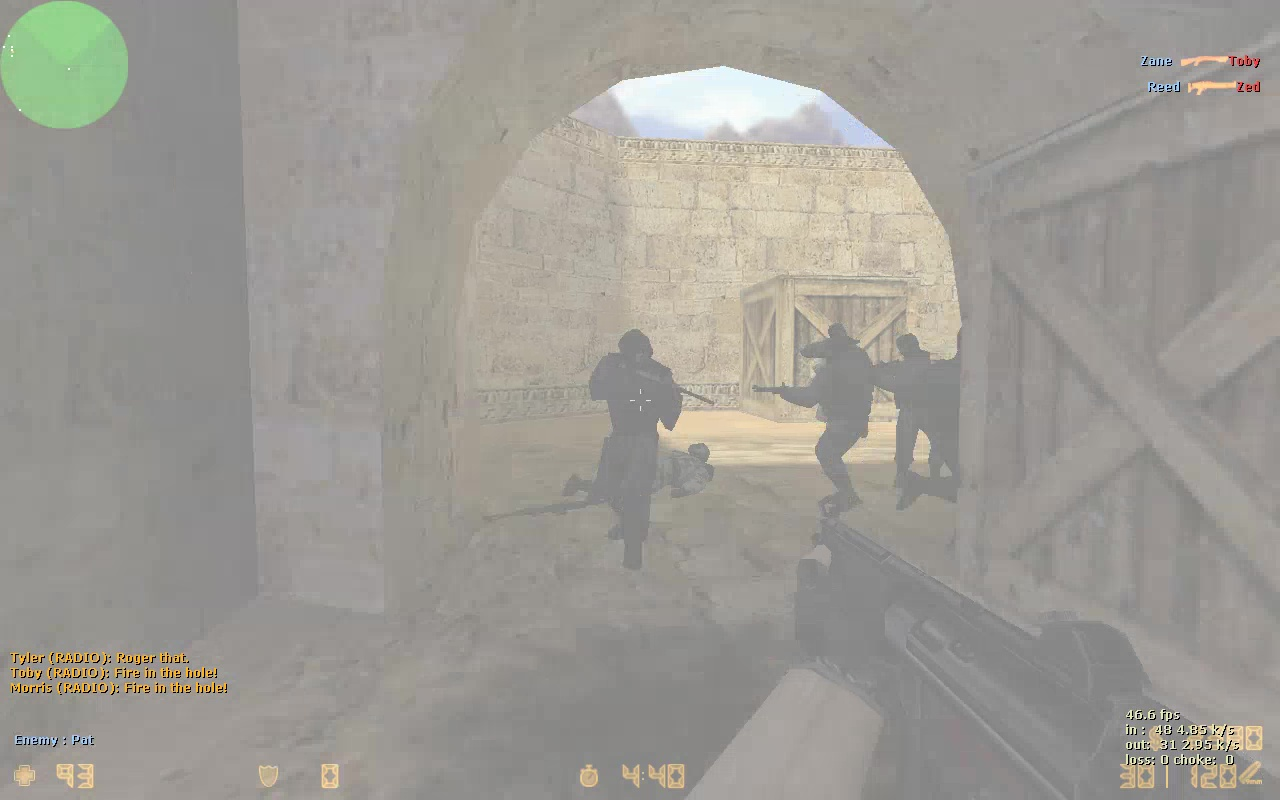ct: (586, 331, 684, 571), (791, 333, 876, 525), (880, 327, 952, 508)
dead: (558, 447, 723, 501)
